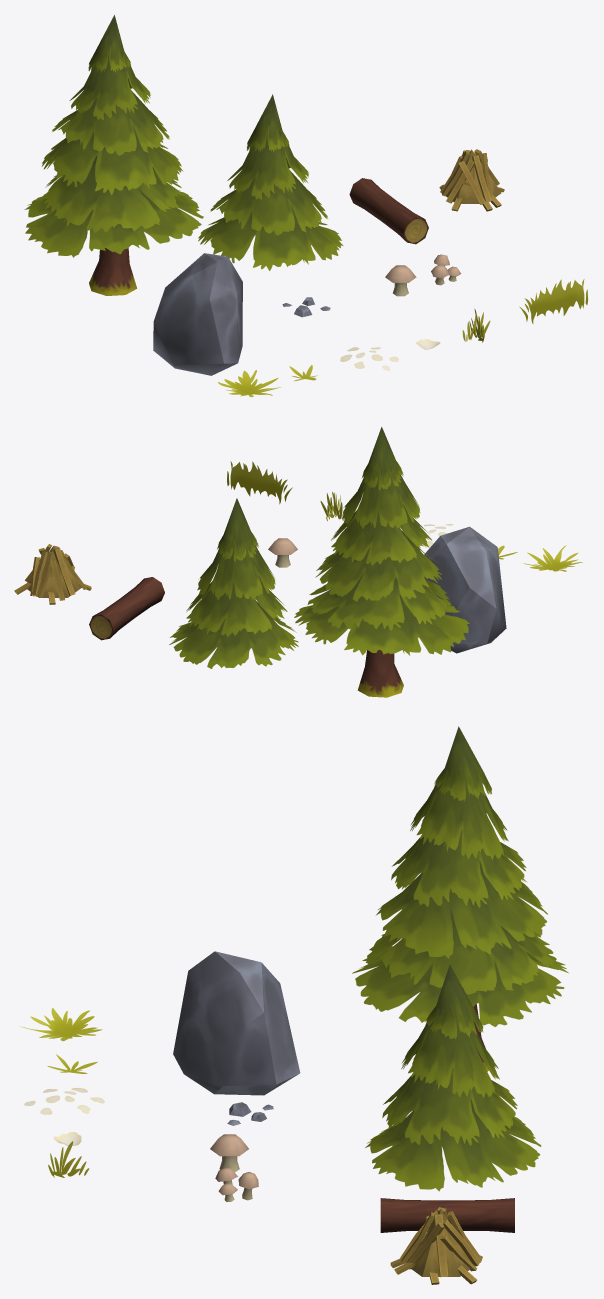
File: forest_pack.glb
3 renders of one model, top to bottom at view 1: azimuth 30°, elevation 25°; view 2: azimuth 150°, elevation 25°; view 3: azimuth 270°, elevation 25°, orthographic. The views are drawn at different scales.
Visible parts, largest first — view 1: tree 1, tree 2, rock 1, campfire, wood, grass 4, grass 1, mushroom 1, mushroom 2; view 2: tree 1, tree 2, rock 1, campfire, wood, grass 4, grass 1, mushroom 1, grass 3; view 3: tree 1, tree 2, rock 1, campfire, wood, grass 1, mushroom 2, mushroom 1.
Part boxes in pixels (bbox=[...]): tree 1: bbox=[24, 15, 203, 295]; tree 2: bbox=[198, 94, 343, 270]; rock 1: bbox=[153, 253, 242, 375]; campfire: bbox=[439, 149, 504, 211]; wood: bbox=[349, 178, 428, 244]; grass 4: bbox=[519, 279, 587, 323]; grass 1: bbox=[218, 370, 280, 397]; mushroom 1: bbox=[385, 265, 416, 296]; mushroom 2: bbox=[431, 254, 461, 285]; tree 1: bbox=[294, 427, 469, 697]; tree 2: bbox=[169, 498, 298, 668]; rock 1: bbox=[424, 526, 506, 653]; campfire: bbox=[14, 544, 91, 604]; wood: bbox=[89, 577, 164, 640]; grass 4: bbox=[227, 461, 292, 504]; grass 1: bbox=[523, 545, 582, 571]; mushroom 1: bbox=[268, 538, 297, 567]; grass 3: bbox=[320, 491, 345, 521]; tree 1: bbox=[352, 726, 568, 1071]; tree 2: bbox=[365, 964, 541, 1191]; rock 1: bbox=[173, 951, 300, 1095]; campfire: bbox=[390, 1207, 482, 1284]; wood: bbox=[380, 1198, 514, 1232]; grass 1: bbox=[20, 1008, 102, 1041]; mushroom 2: bbox=[215, 1167, 258, 1201]; mushroom 1: bbox=[210, 1134, 248, 1172].
Size of the model in its own units: 3.22 by 1.9 by 2.74.
Materials: 3 (3 with a texture image).
